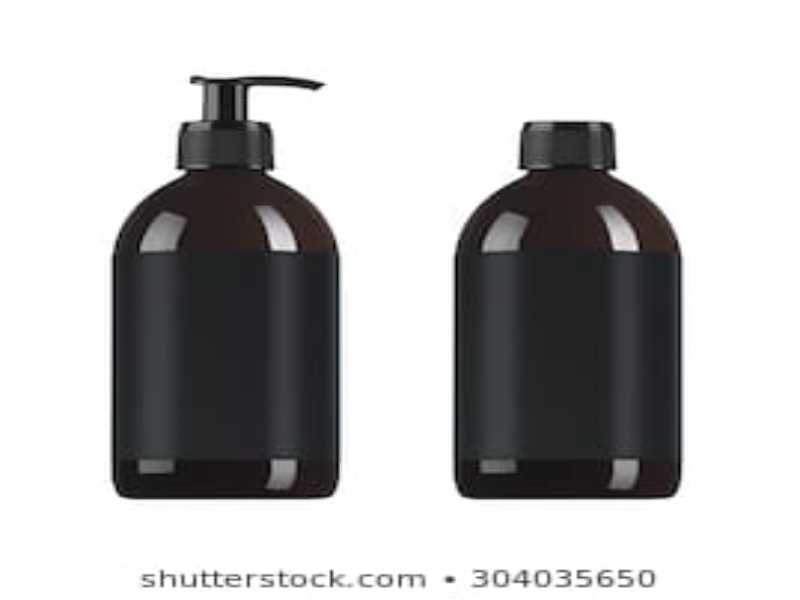shampoo-bottle: (105, 73, 344, 501), (452, 113, 687, 504), (514, 118, 622, 174)
